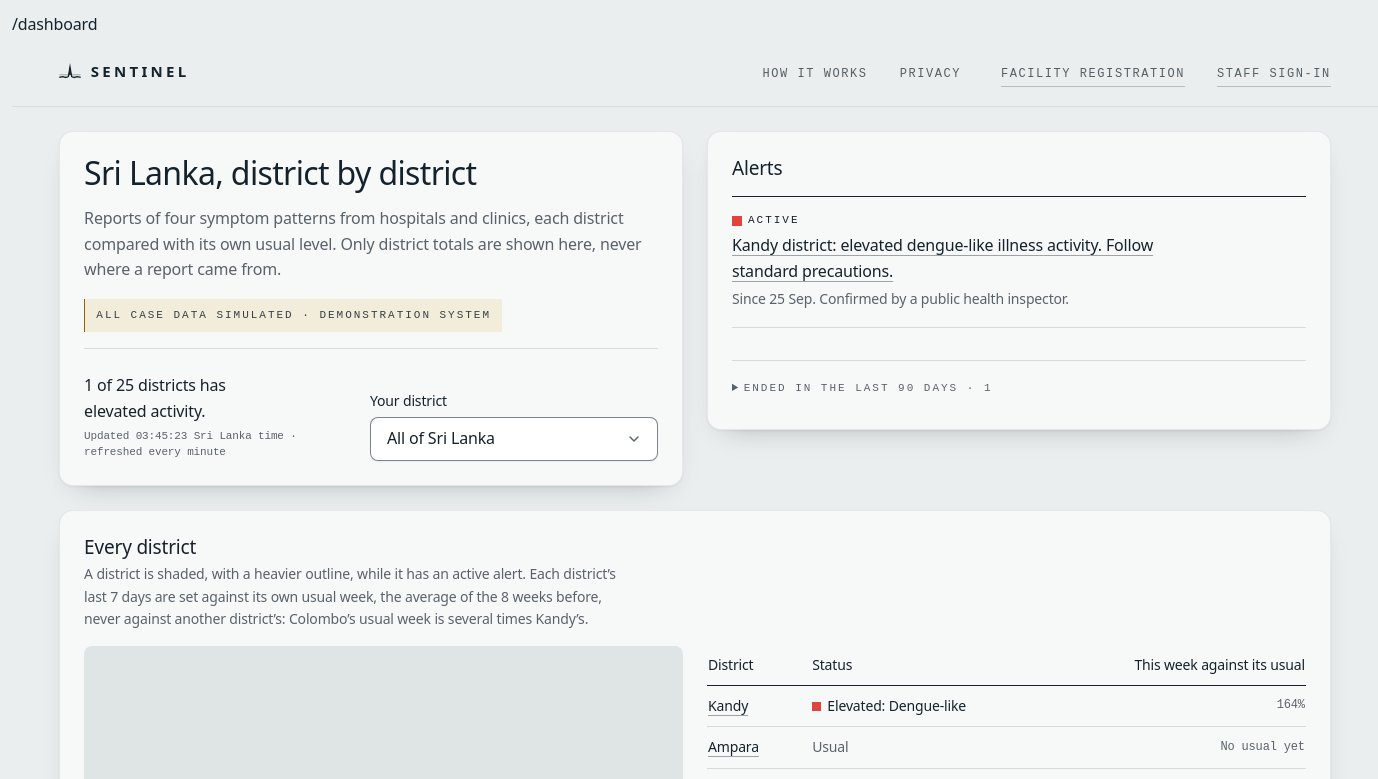
Test: PublicDashboardPage › answers for the district a visitor picks, before anything else
Select "Kandy" in the dropdown labelled "Your district": (514, 438) [370,416,658,460]
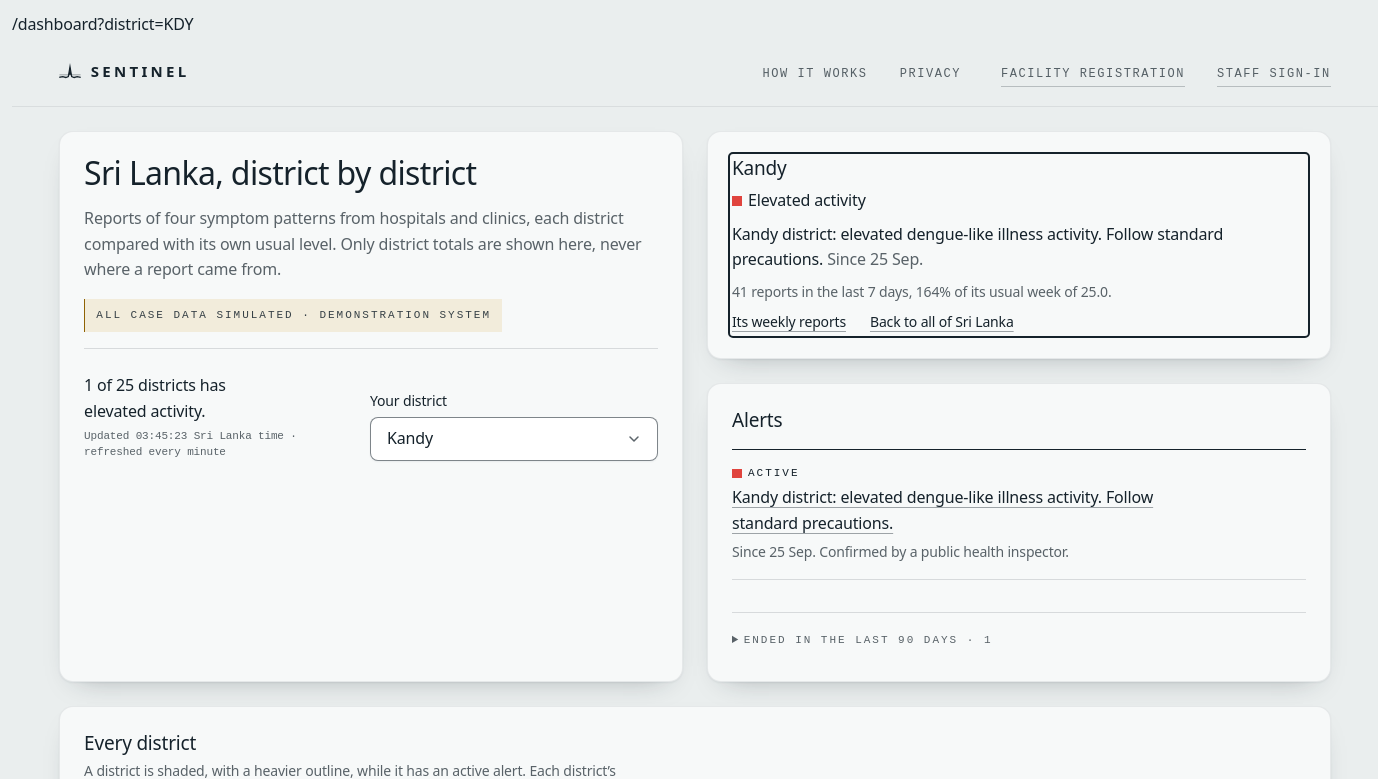
expect the text with test id "address" reads "/dashboard?district=KDY": met, box [12,13,194,35]
expect the element "Kandy" shows "Elevated activity": met, box [748,189,866,211]
expect the element "Kandy" shows "Kandy district: elevated dengue-like illness activity. Follow standard precautions.": met, box [732,223,1223,270]
